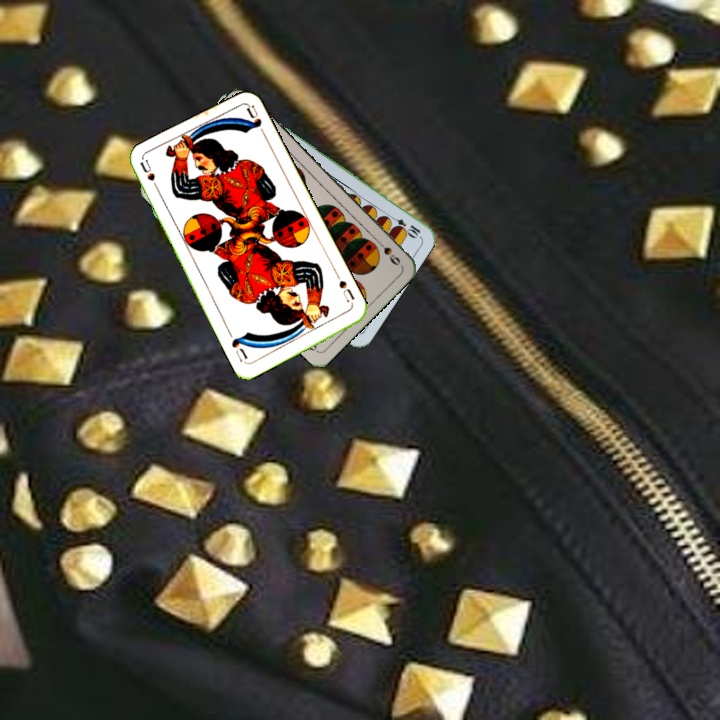E10: (385, 211, 423, 240)
S9: (371, 235, 403, 268)
SU: (136, 157, 163, 196), (332, 270, 357, 308)
